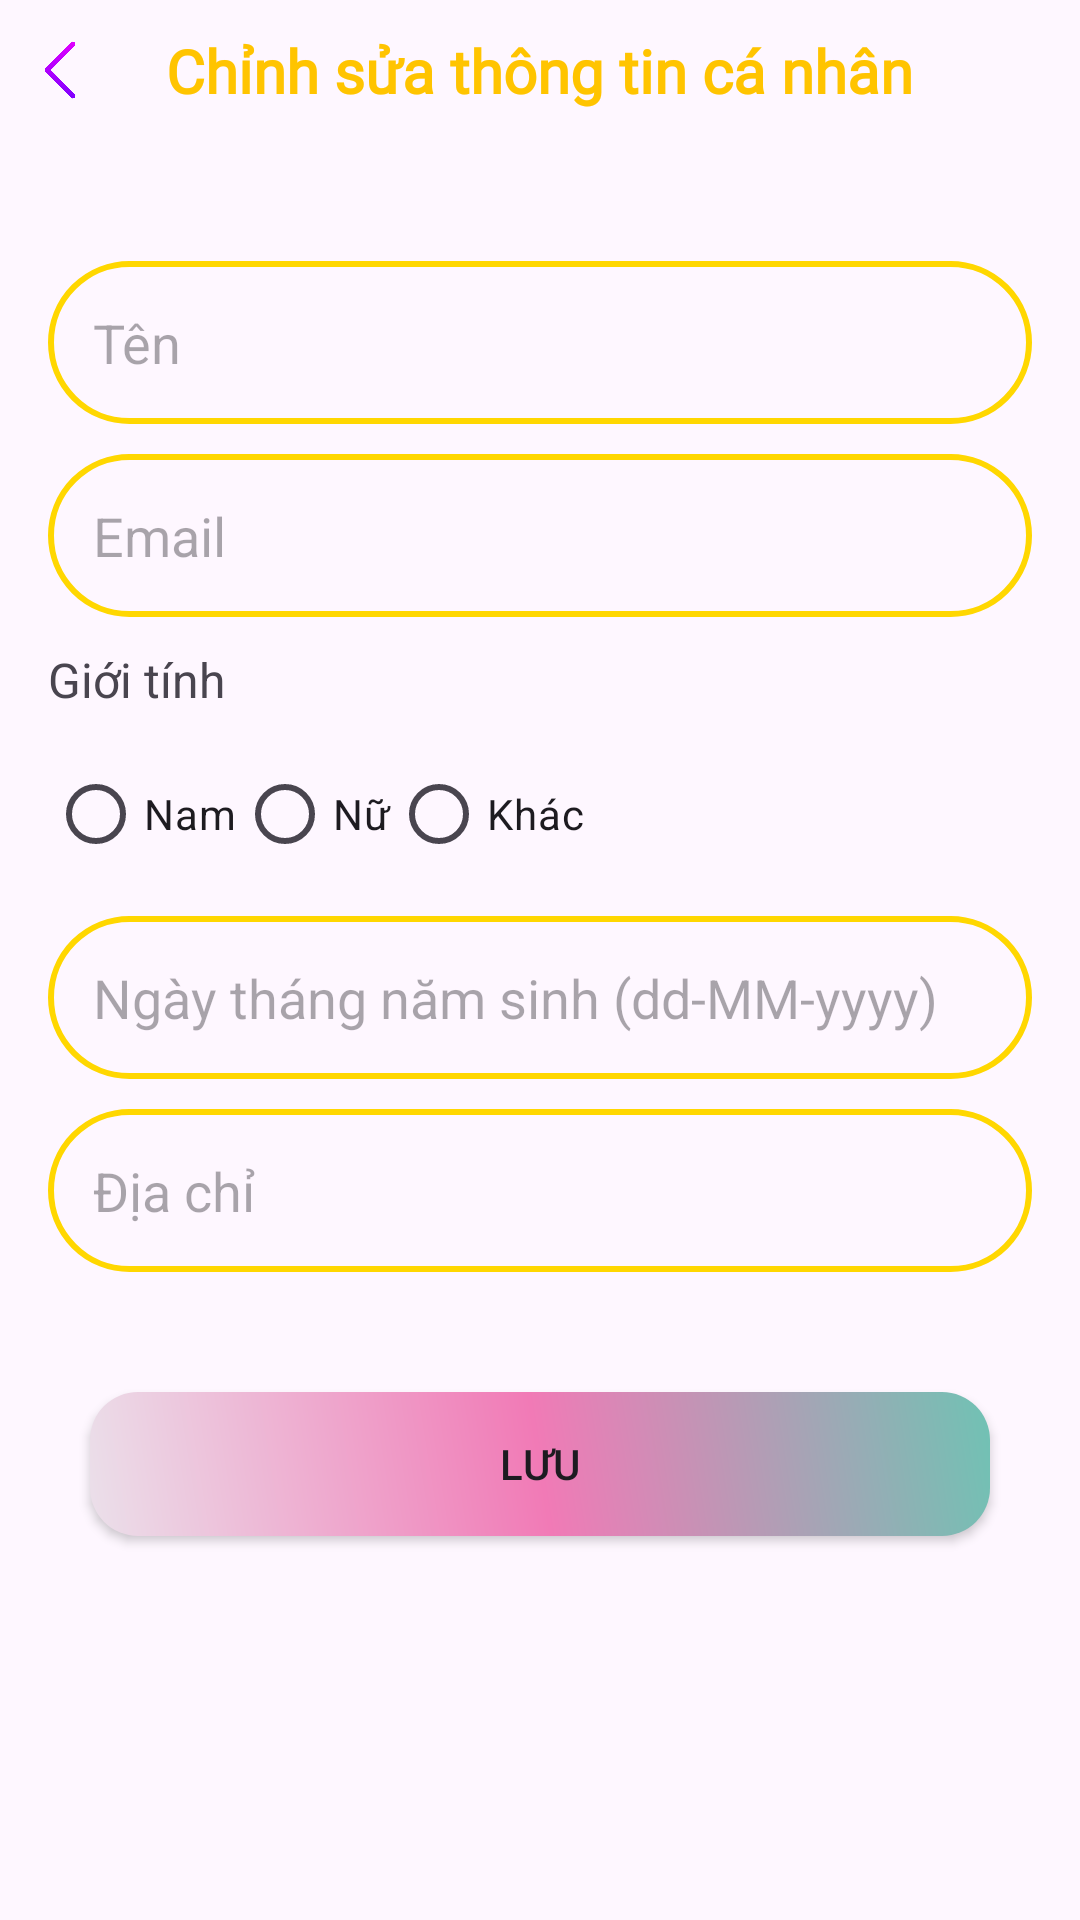

Where icons sit on this 1080 × 1920 app screen, as [left=x1, top=y1, right=x2, bottom=y2]:
left: [left=45, top=42, right=75, bottom=99]
